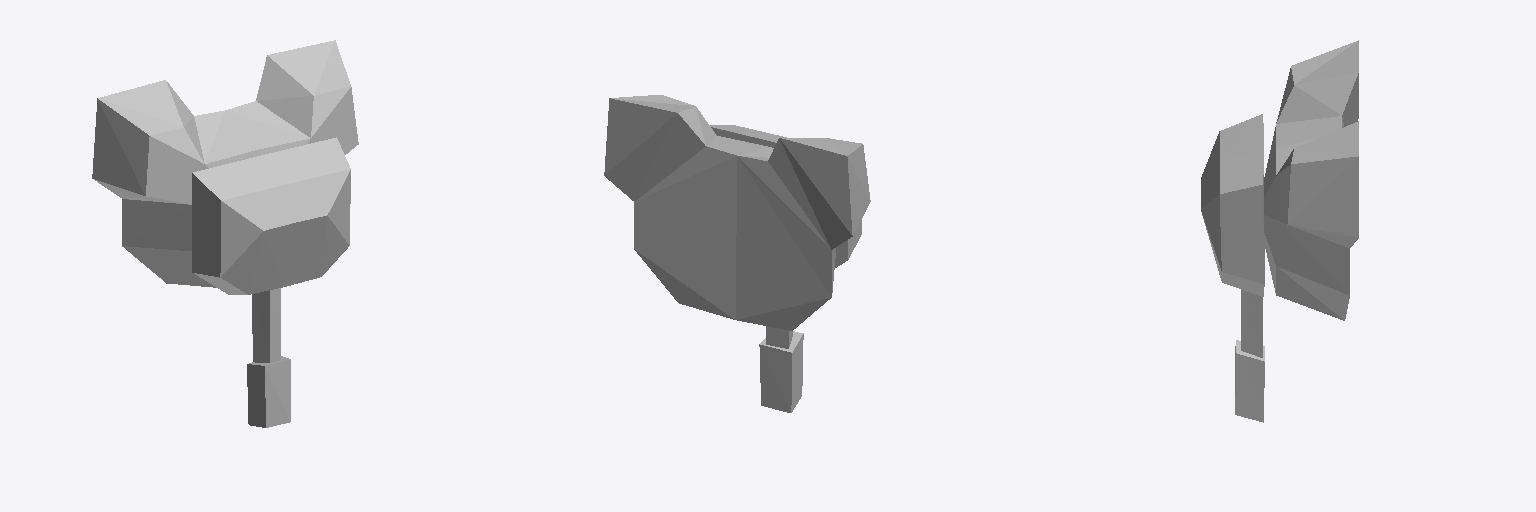
The model's file is turret-18.obj.
3 views of the same model, side by side, from view 1: azimuth 30°, elevation 25°; view 2: azimuth 150°, elevation 25°; view 3: azimuth 270°, elevation 25° (orthographic).
Parts seen in each view (by area): view 1: turret_18; view 2: turret_18; view 3: turret_18.
Boxes of the visible parts, box(x1,y1,x2,y2) form: turret_18: box(92, 40, 358, 427); turret_18: box(604, 95, 870, 412); turret_18: box(1201, 40, 1358, 422).
Size of the model in its own units: 3.55 by 4.37 by 1.96.